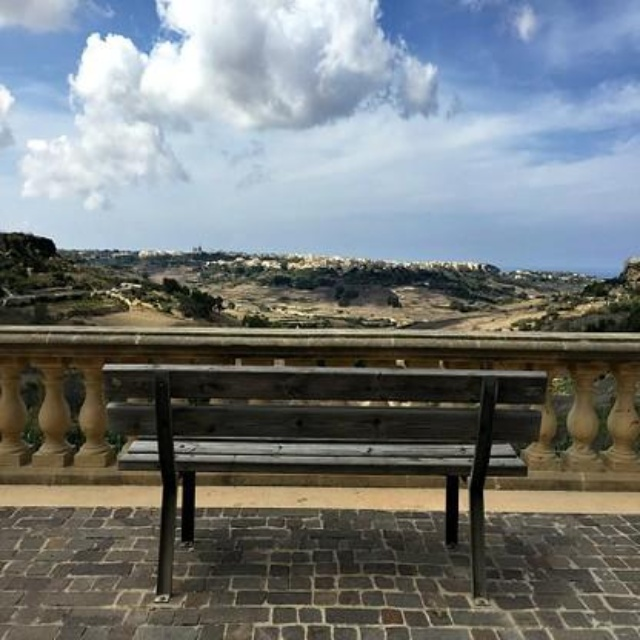obstacle: (86, 354, 557, 626)
